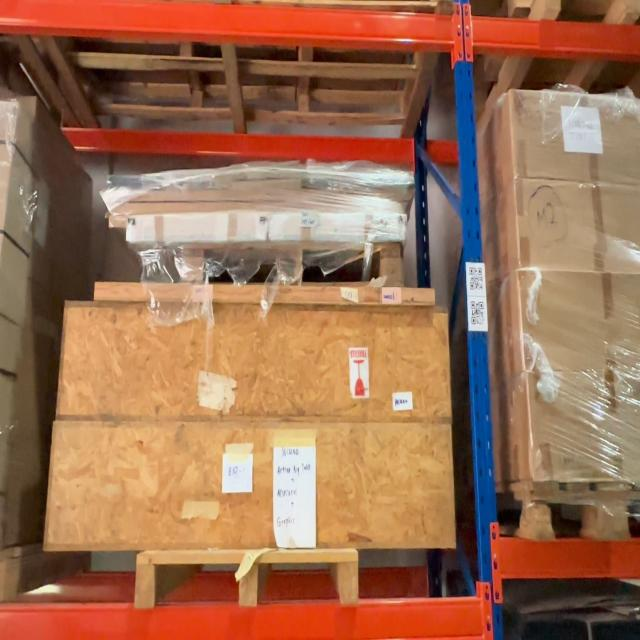box: (51, 422, 451, 544), (65, 308, 449, 410)
